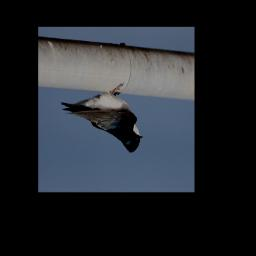Swallow: (61, 83, 143, 153)
